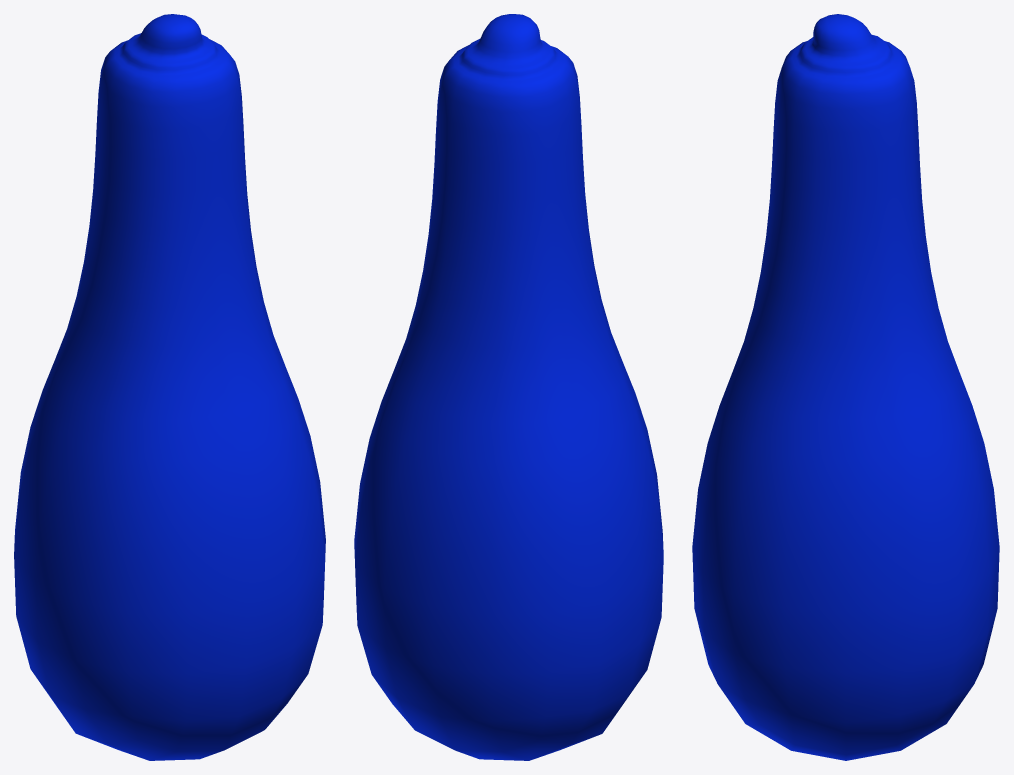
The model's file is Squash3.fbx.
3 views of the same model, side by side, from view 1: azimuth 30°, elevation 25°; view 2: azimuth 150°, elevation 25°; view 3: azimuth 270°, elevation 25° (orthographic).
Visible parts, largest first — view 1: Squash3; view 2: Squash3; view 3: Squash3.
Part boxes in pixels (left/top/right/bottom): Squash3: left=14, top=14, right=325, bottom=760; Squash3: left=354, top=14, right=663, bottom=760; Squash3: left=692, top=14, right=999, bottom=760.
Bounding box in the file's own units: 2.17 × 5.65 × 2.17.
